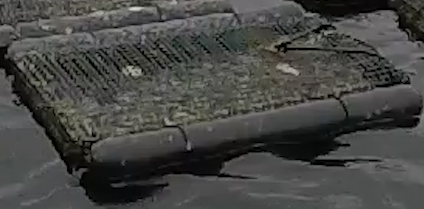bag: (7, 3, 414, 178)
